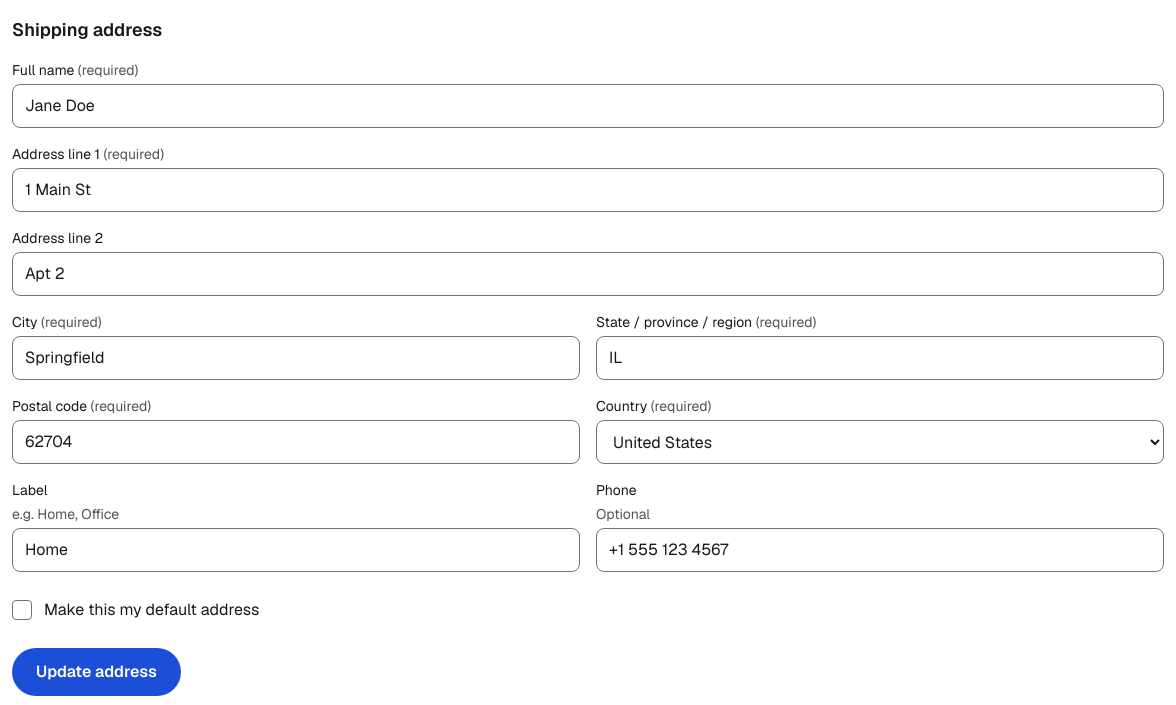
AddressForm interactions › edit success keeps the fields
Replace the text in the field labelled "City (required)" with "Shelbyville". click: (296, 358)
box: [12,336,580,380]
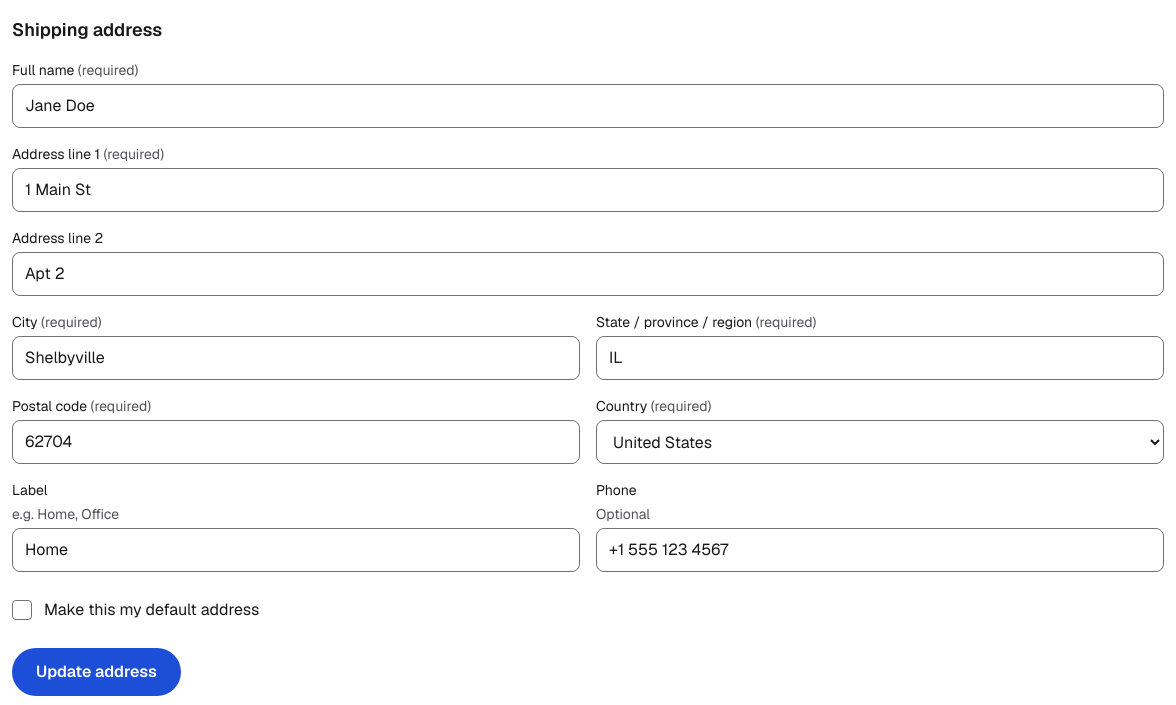
Submit the form with id "address-form"
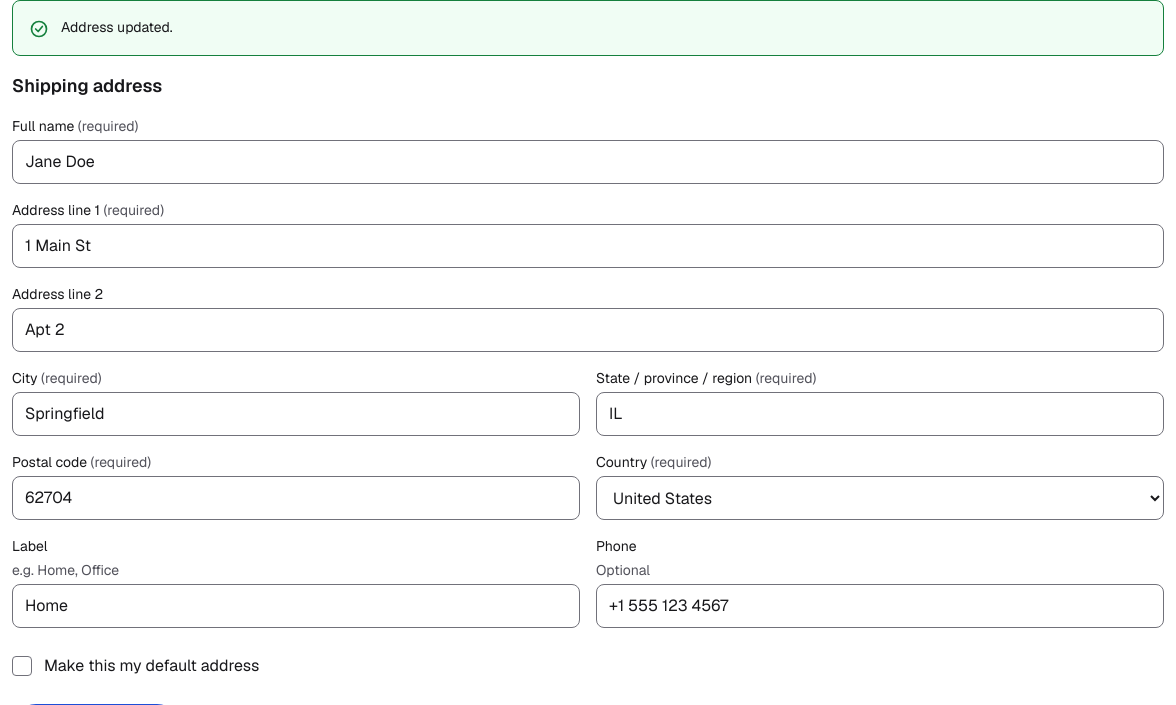
Expected: the text "Address updated." is shown, [61,18,173,36]
